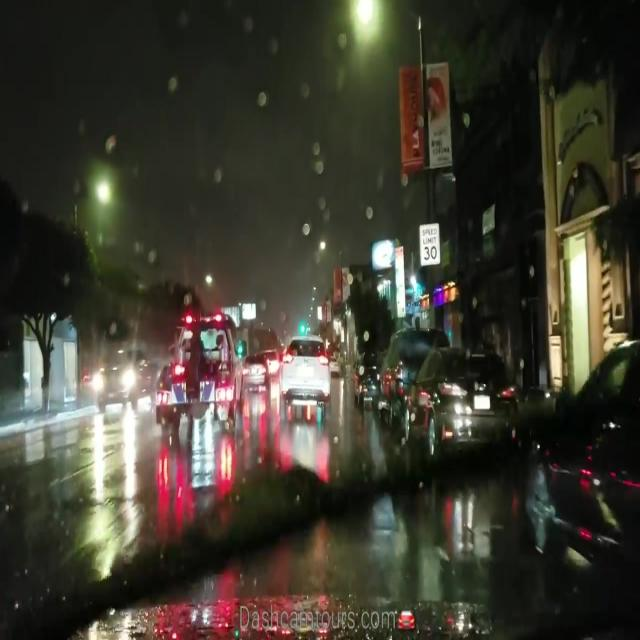Car: (401, 345, 516, 463), (375, 328, 412, 435), (90, 346, 153, 408), (280, 334, 324, 410), (242, 354, 267, 396)
